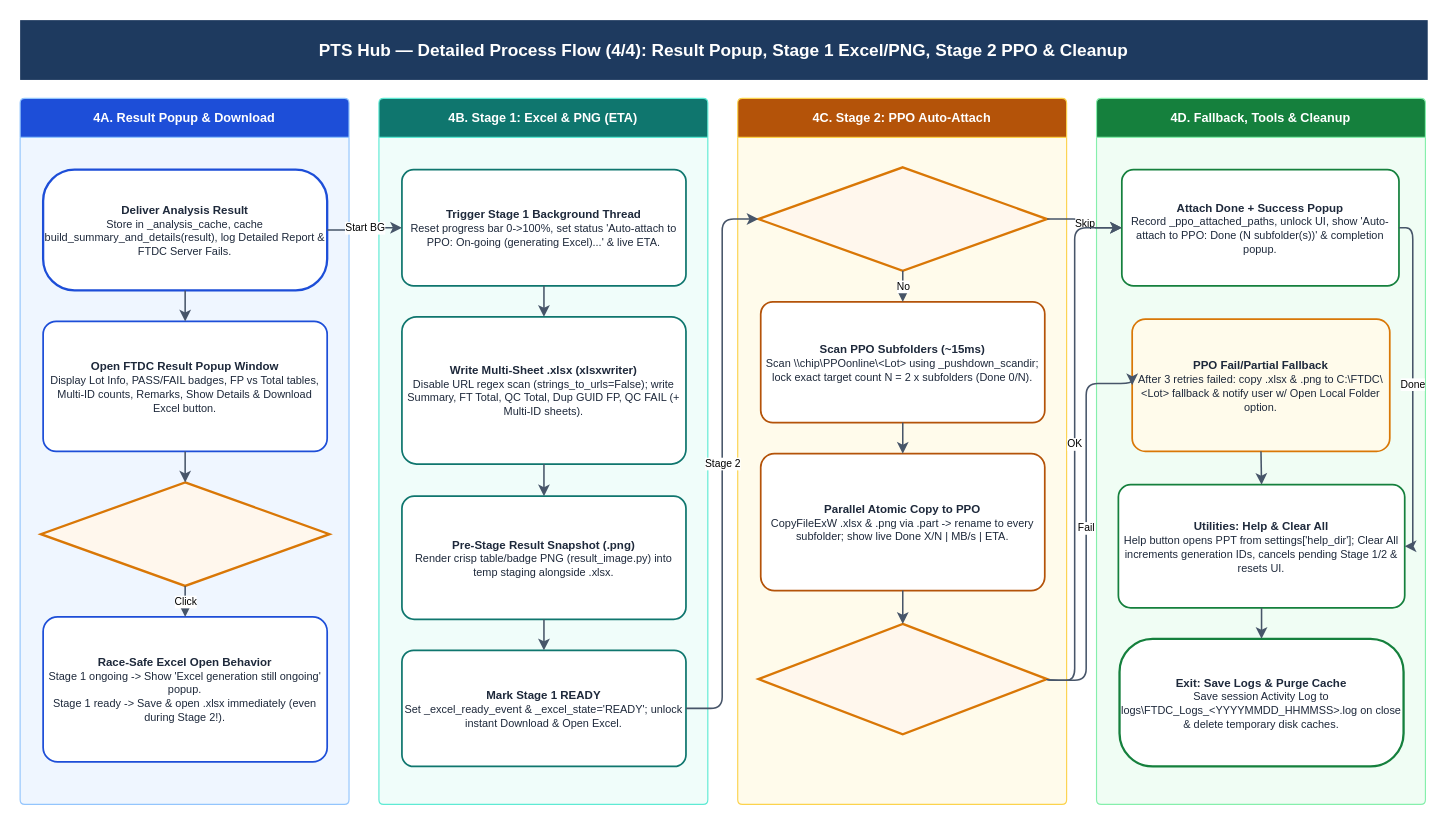
Image size: 1448x825. Some labels were removed from this diagram. The centre of each missing label's shape, as x and y in pixels:
"Already Attached? (Cache-Hit Check)" belongs at (x=902, y=218).
"Attach Succeeded? (<= 3 Attempts; 3s, 8s)" belongs at (x=902, y=678).
"Click Download Excel? (Stage 1 Done?)" belongs at (x=184, y=533).
